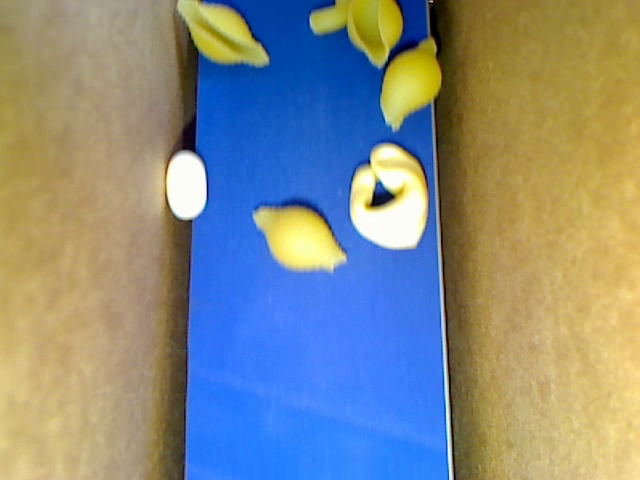elbow: (309, 1, 350, 34)
shell: (175, 1, 271, 68), (251, 205, 346, 272), (379, 36, 441, 130), (346, 1, 402, 69)
tortellini: (350, 143, 429, 249)
